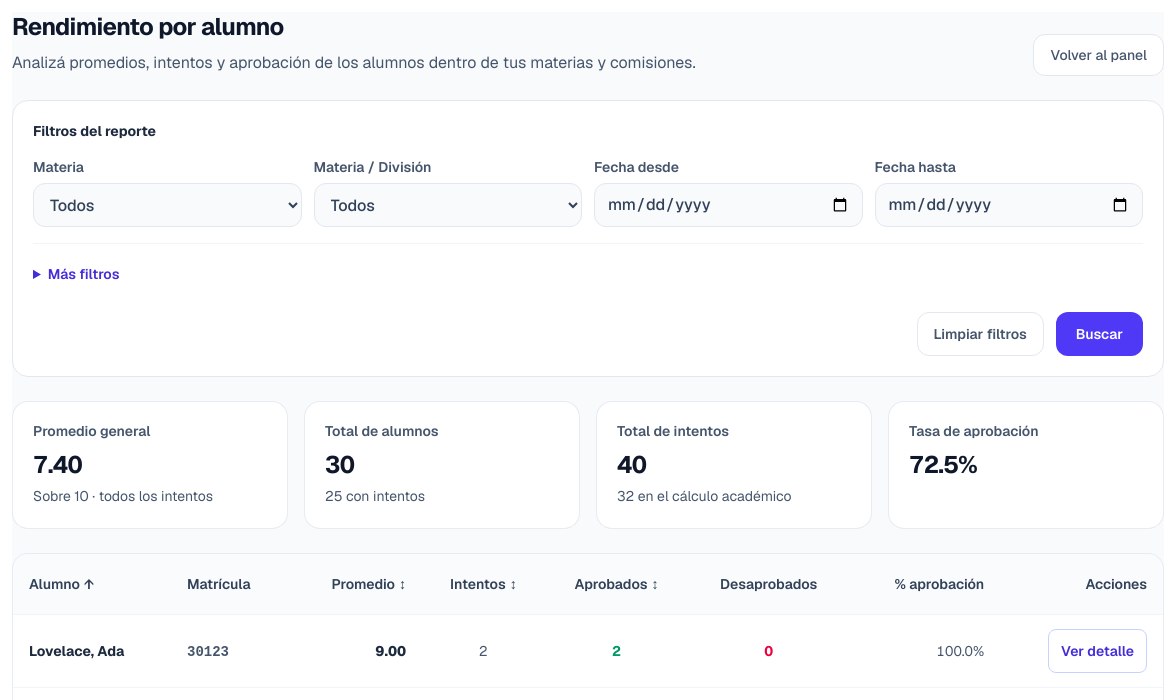
Test: reportes docentes › impide filtrar por actividad sin matrícula en el reporte por alumno
Earlier steps of the test are not shown.
Click the button "Buscar": x=1099, y=334 x1=1056 y1=312 x2=1143 y2=356
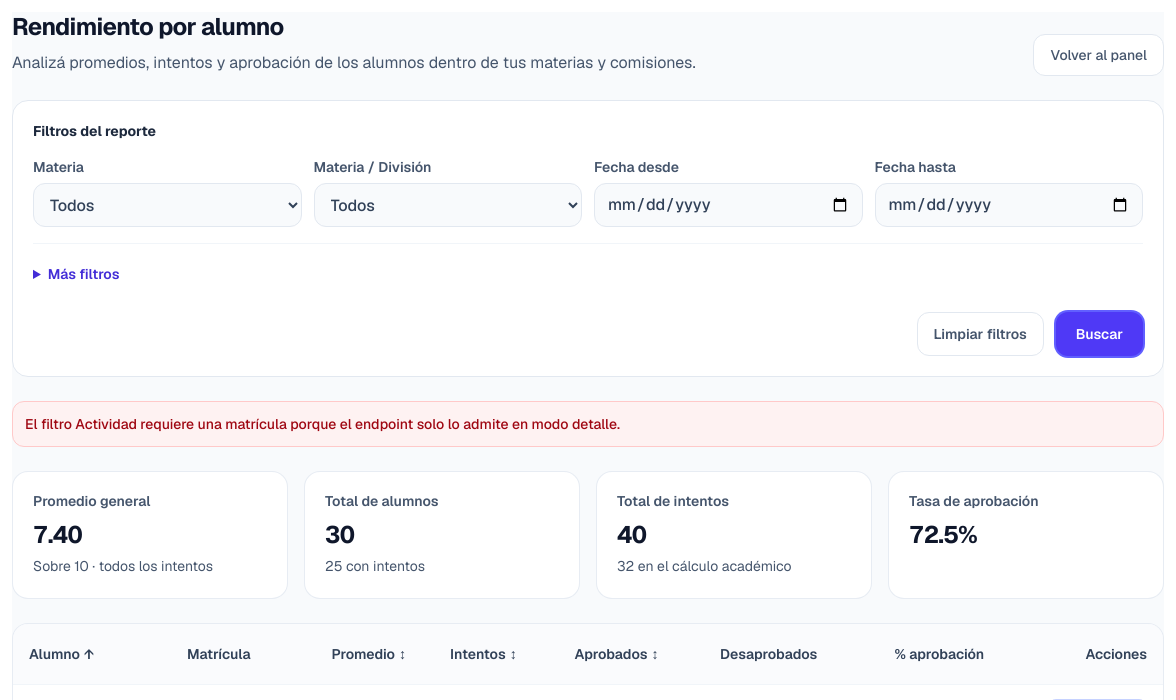
Expected: the text "El filtro Actividad requiere una matrícula" is shown, x1=25 y1=415 x2=620 y2=433
